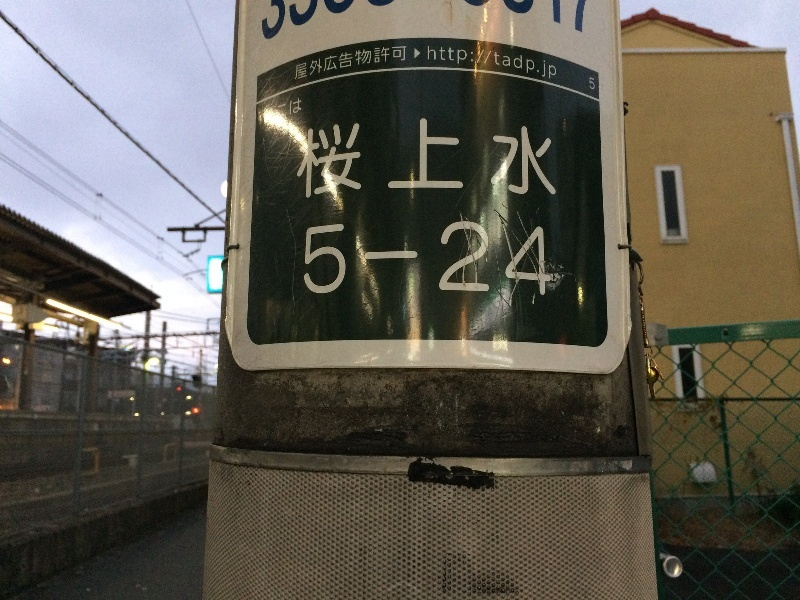text: (305, 116, 320, 200), (321, 116, 336, 200), (337, 116, 352, 200), (353, 116, 368, 200), (369, 116, 384, 200), (385, 116, 400, 200), (401, 116, 416, 200), (417, 116, 432, 200), (433, 116, 448, 200), (449, 116, 464, 200), (465, 116, 480, 200), (481, 116, 496, 200), (497, 116, 512, 200), (513, 116, 528, 200), (529, 116, 544, 200), (305, 218, 320, 296), (321, 218, 336, 296), (337, 218, 352, 296), (353, 218, 368, 296), (369, 218, 384, 296), (385, 218, 400, 296), (401, 218, 416, 296), (417, 218, 432, 296), (433, 218, 448, 296), (449, 218, 464, 296), (465, 218, 480, 296), (481, 218, 496, 296), (497, 218, 512, 296), (513, 218, 528, 296), (529, 218, 544, 296), (545, 116, 558, 200), (273, 2, 288, 45), (289, 2, 304, 45), (305, 2, 320, 45), (321, 2, 336, 45), (337, 2, 352, 45), (353, 2, 368, 45), (369, 2, 384, 45), (385, 2, 400, 45), (401, 2, 416, 45), (417, 2, 432, 45), (433, 2, 448, 45), (449, 2, 464, 45), (465, 2, 480, 45), (481, 2, 496, 45), (497, 2, 512, 45), (513, 2, 528, 45), (529, 2, 544, 45), (545, 2, 560, 45), (561, 2, 576, 45), (545, 218, 553, 296), (305, 43, 320, 83), (321, 43, 336, 83), (337, 43, 352, 83), (353, 43, 368, 83), (369, 43, 384, 83), (385, 43, 400, 83), (433, 43, 448, 81), (449, 43, 464, 81), (465, 43, 480, 81), (481, 43, 496, 81), (497, 43, 512, 81), (513, 43, 528, 81), (529, 43, 544, 81), (260, 2, 272, 45), (545, 43, 558, 81), (577, 2, 586, 45), (296, 43, 304, 83), (290, 96, 304, 117), (401, 43, 408, 83), (425, 43, 432, 81), (593, 77, 597, 93), (590, 77, 592, 93)
